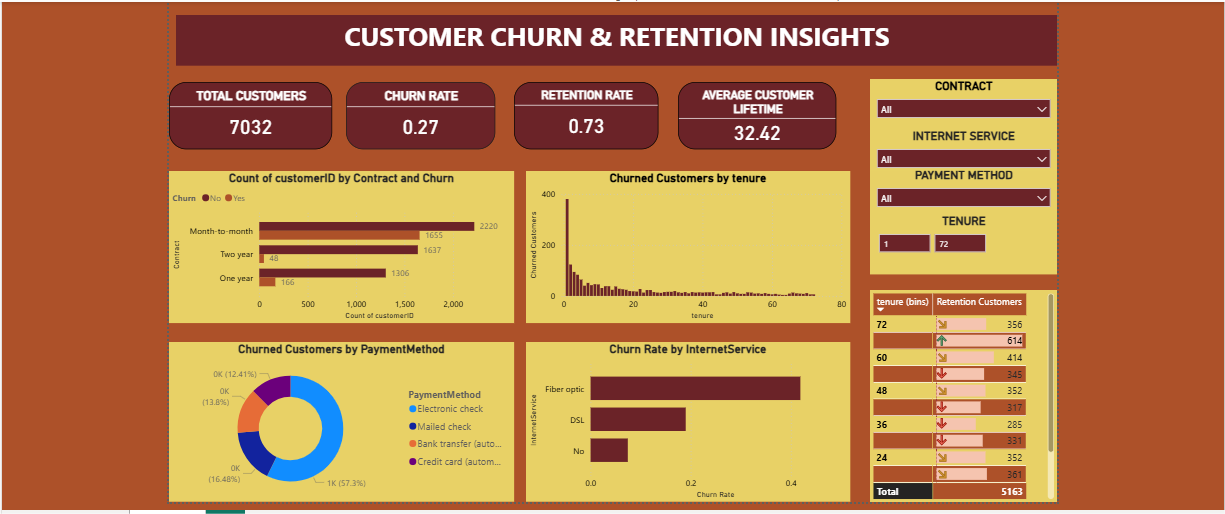

Layout of this report page (visuals, bound fields, positions):
{"tool":"powerbi","page":{"name":"Page 1","canvas":[1280,720],"ordinal":0},"visuals":[{"type":"textbox","box":[10.1,18.7,1270.1,73.4],"z":0},{"type":"card","title":"TOTAL CUSTOMERS","fields":{"Values":["WA_Fn-UseC_-Telco-Customer-Churn.TOTAL CUSTOMERS"]},"box":[0,115.9,235.2,97.4],"z":1000},{"type":"card","title":"CHURN RATE","fields":{"Values":["WA_Fn-UseC_-Telco-Customer-Churn.Churn Rate"]},"box":[255.3,115.9,215,97.4],"z":2000},{"type":"card","title":"RETENTION RATE","fields":{"Values":["WA_Fn-UseC_-Telco-Customer-Churn.Retention Rate"]},"box":[497.2,115.9,208.3,97.4],"z":3000},{"type":"card","title":"AVERAGE CUSTOMER LIFETIME","fields":{"Values":["WA_Fn-UseC_-Telco-Customer-Churn.Avg Lifetime"]},"box":[732.4,115.9,228.5,97.4],"z":4000},{"type":"clusteredBarChart","fields":{"Category":["WA_Fn-UseC_-Telco-Customer-Churn.Contract"],"Y":["CountNonNull(WA_Fn-UseC_-Telco-Customer-Churn.customerID)"],"Series":["WA_Fn-UseC_-Telco-Customer-Churn.Churn"]},"box":[0,243.4,496.8,218.9],"z":5000},{"type":"clusteredColumnChart","fields":{"Category":["WA_Fn-UseC_-Telco-Customer-Churn.tenure"],"Y":["WA_Fn-UseC_-Telco-Customer-Churn.Churned Customers"]},"box":[514.1,243.4,466.6,218.9],"z":6000},{"type":"donutChart","fields":{"Category":["WA_Fn-UseC_-Telco-Customer-Churn.PaymentMethod"],"Y":["WA_Fn-UseC_-Telco-Customer-Churn.Churned Customers"]},"box":[0,489.6,496.8,230.4],"z":7000},{"type":"clusteredBarChart","fields":{"Category":["WA_Fn-UseC_-Telco-Customer-Churn.InternetService"],"Y":["WA_Fn-UseC_-Telco-Customer-Churn.Churn Rate"]},"box":[514.1,489.6,466.6,230.4],"z":8000},{"type":"pivotTable","fields":{"Rows":["WA_Fn-UseC_-Telco-Customer-Churn.tenure (bins)"],"Values":["WA_Fn-UseC_-Telco-Customer-Churn.Retention Customers"]},"box":[1009.6,414.9,270.4,305.7],"z":10000},{"type":"slicer","title":"TENURE","fields":{"Values":["WA_Fn-UseC_-Telco-Customer-Churn.tenure"]},"box":[1009.6,305.7,270.4,87.3],"z":11000},{"type":"slicer","title":"CONTRACT","fields":{"Values":["WA_Fn-UseC_-Telco-Customer-Churn.Contract"]},"box":[1009.6,110.9,270.4,72.2],"z":12000},{"type":"slicer","title":"PAYMENT METHOD","fields":{"Values":["WA_Fn-UseC_-Telco-Customer-Churn.PaymentMethod"]},"box":[1009.6,238.5,270.4,67.2],"z":13000},{"type":"slicer","title":"INTERNET SERVICE","fields":{"Values":["WA_Fn-UseC_-Telco-Customer-Churn.InternetService"]},"box":[1009.6,183.1,270.4,60.5],"z":14000}]}

Visuals, with their boxes in screenshot pixels (x1, y1, x2, y2):
textbox: x1=189 y1=29 x2=1051 y2=78
"TOTAL CUSTOMERS" card: x1=182 y1=95 x2=341 y2=161
"CHURN RATE" card: x1=355 y1=95 x2=501 y2=161
"RETENTION RATE" card: x1=519 y1=95 x2=661 y2=161
"AVERAGE CUSTOMER LIFETIME" card: x1=679 y1=95 x2=834 y2=161
clusteredBarChart - WA_Fn-UseC_-Telco-Customer-Churn.Contract x CountNonNull(WA_Fn-UseC_-Telco-Customer-Churn.customerID): x1=182 y1=181 x2=519 y2=330
clusteredColumnChart - WA_Fn-UseC_-Telco-Customer-Churn.tenure x WA_Fn-UseC_-Telco-Customer-Churn.Churned Customers: x1=531 y1=181 x2=847 y2=330
donutChart - WA_Fn-UseC_-Telco-Customer-Churn.PaymentMethod x WA_Fn-UseC_-Telco-Customer-Churn.Churned Customers: x1=182 y1=348 x2=519 y2=504
clusteredBarChart - WA_Fn-UseC_-Telco-Customer-Churn.InternetService x WA_Fn-UseC_-Telco-Customer-Churn.Churn Rate: x1=531 y1=348 x2=847 y2=504
pivotTable - WA_Fn-UseC_-Telco-Customer-Churn.tenure (bins) x WA_Fn-UseC_-Telco-Customer-Churn.Retention Customers: x1=867 y1=297 x2=1050 y2=505
"TENURE" slicer: x1=867 y1=223 x2=1050 y2=283
"CONTRACT" slicer: x1=867 y1=91 x2=1050 y2=140
"PAYMENT METHOD" slicer: x1=867 y1=178 x2=1050 y2=223
"INTERNET SERVICE" slicer: x1=867 y1=140 x2=1050 y2=181
